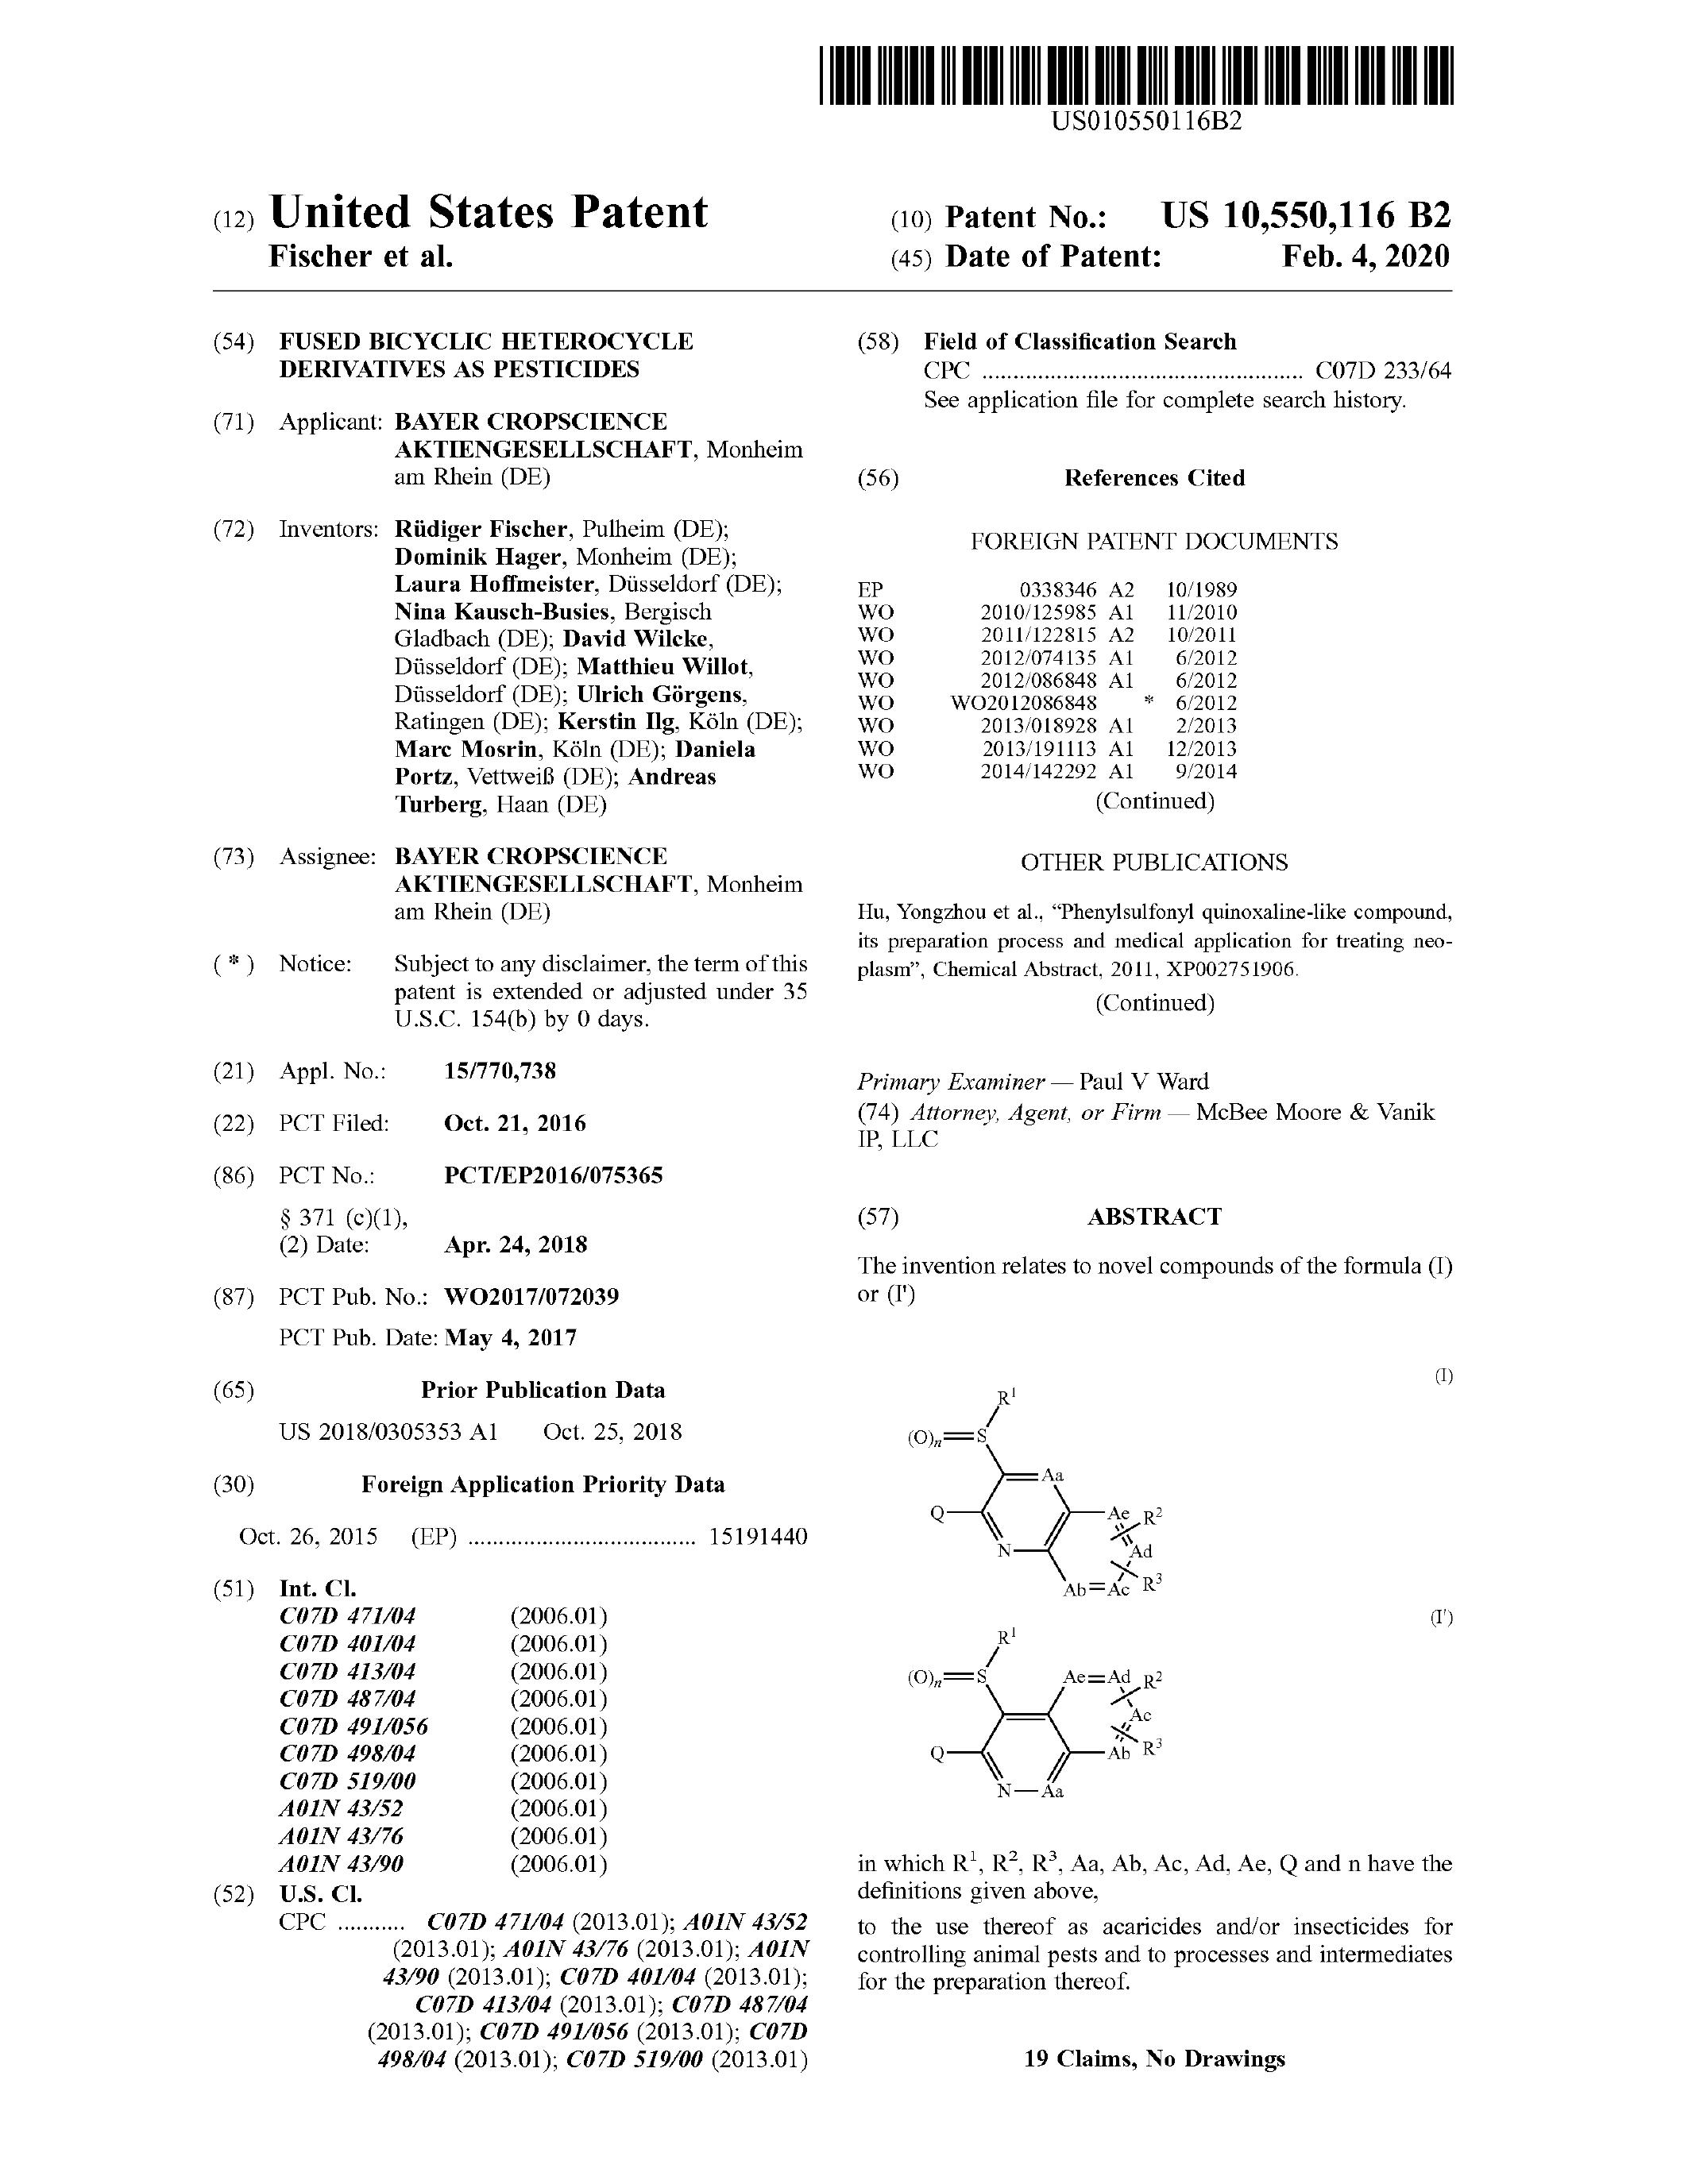markush-structures: (864, 1358, 1243, 1826)
